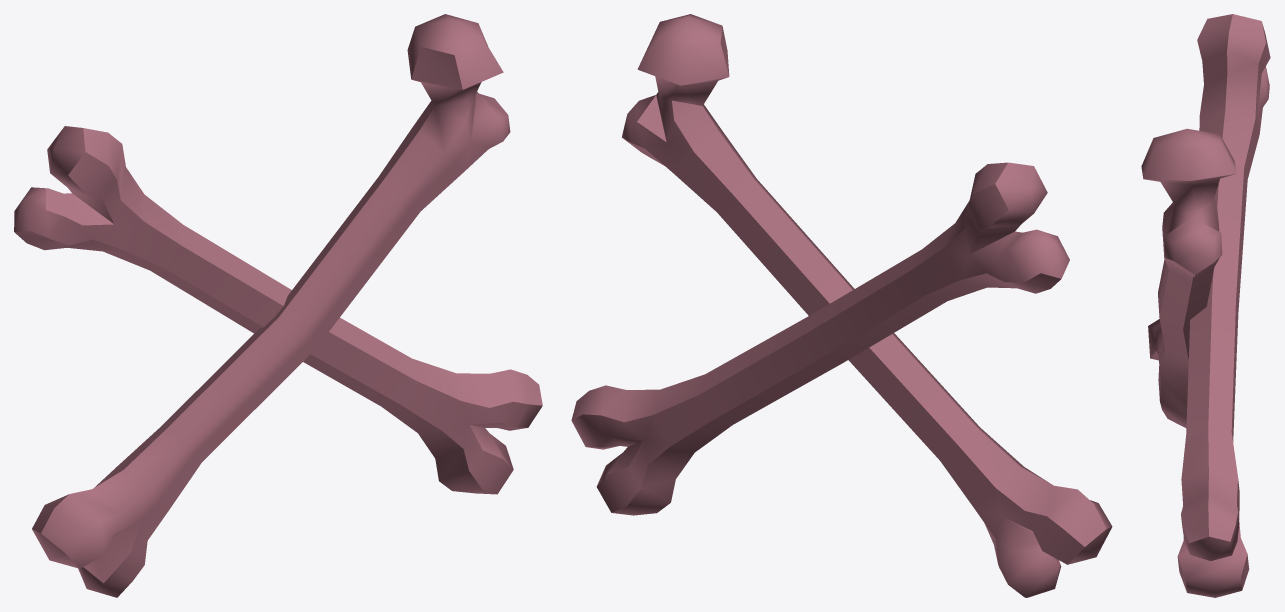
The model's file is 01bounes.FBX.
3 renders of one model, left to right at view 1: azimuth 30°, elevation 25°; view 2: azimuth 150°, elevation 25°; view 3: azimuth 270°, elevation 25°, orthographic. The views are drawn at different scales.
Visible parts, largest first — view 1: SM_Icon_Bones_01; view 2: SM_Icon_Bones_01; view 3: SM_Icon_Bones_01.
Part boxes in pixels (left/top/right/bottom): SM_Icon_Bones_01: left=14, top=14, right=542, bottom=597; SM_Icon_Bones_01: left=571, top=14, right=1112, bottom=597; SM_Icon_Bones_01: left=1141, top=14, right=1270, bottom=597.
Size of the model in its own units: 64.89 by 59.76 by 15.47.
